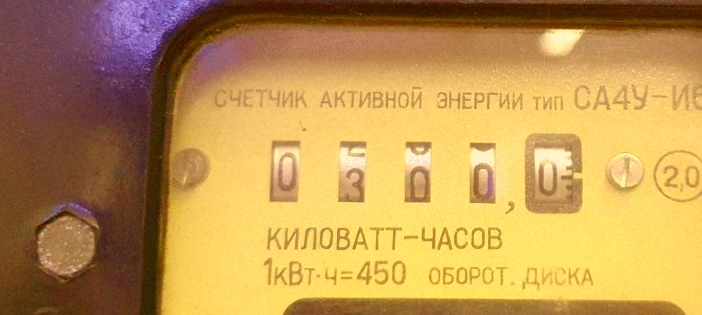0: (470, 159, 495, 203), (534, 155, 559, 198), (275, 148, 298, 194), (406, 163, 430, 204)
3: (342, 164, 365, 203)
screen: (248, 115, 602, 231)
